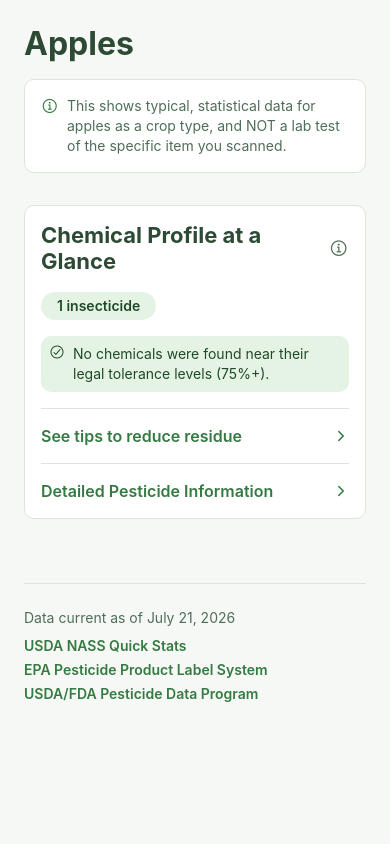
the summary's info toggle is hidden until tapped, then shows an explanation
The image size is (390, 844).
Expected: the text "Counts how many" is not shown
Click the button named "What does this summary show?".
click(339, 248)  # box [329,236,349,260]
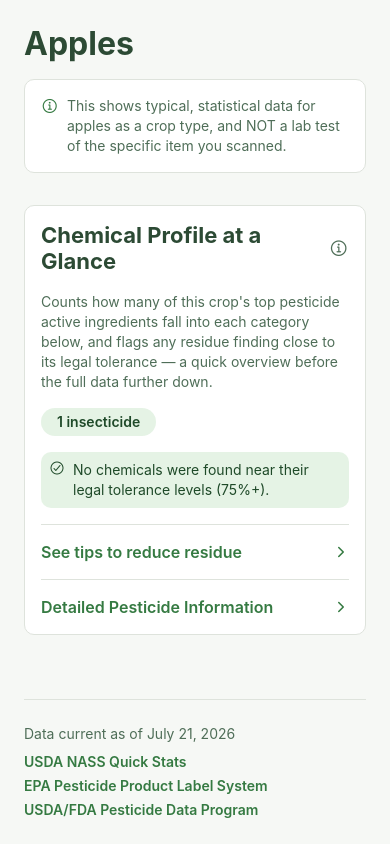
Expected: the text "Counts how many" is shown, [41,293,344,390]
Click the button named "What does this summary show?".
click(339, 248)  # box [329,236,349,260]
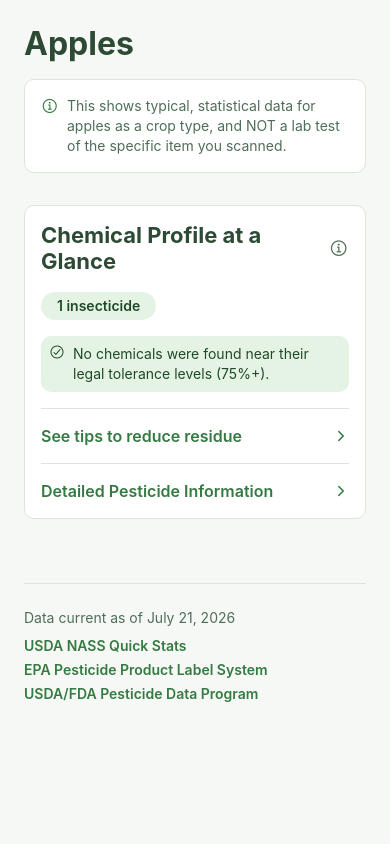
Expected: the text "Counts how many" is gone
